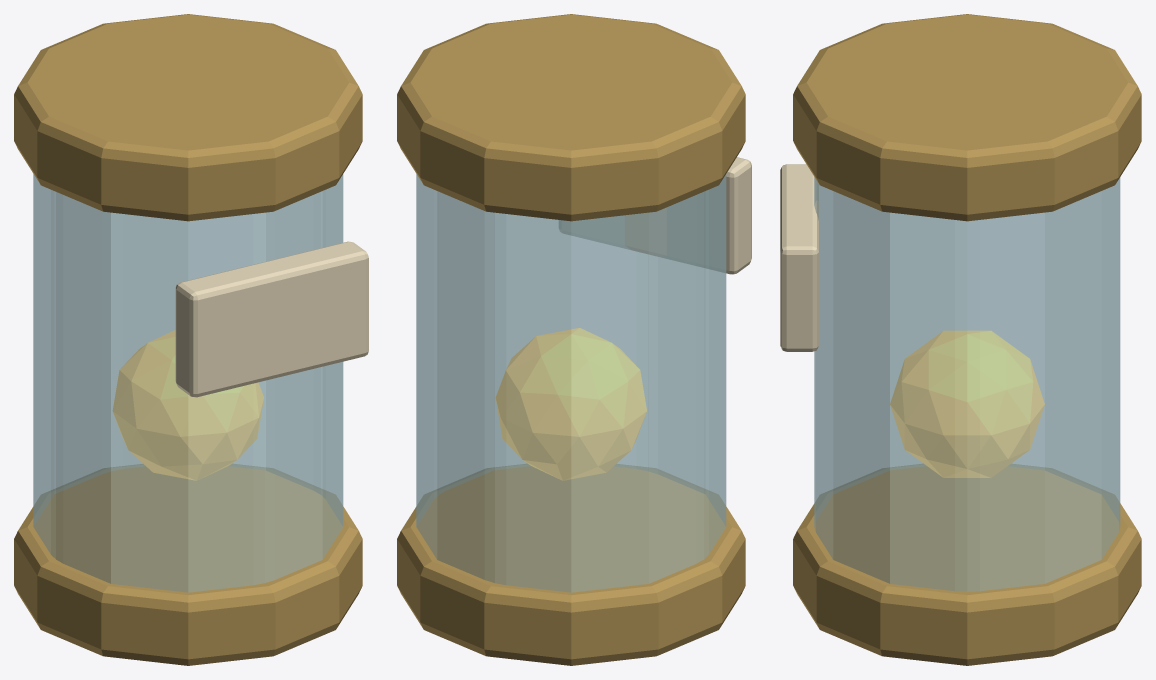
File: item_first_grain.glb
3 views of the same model, side by side, from view 1: azimuth 30°, elevation 25°; view 2: azimuth 150°, elevation 25°; view 3: azimuth 270°, elevation 25° (orthographic).
Visible parts, largest first — view 1: Archive capsule, Archive cap, Archive base, Catalogue tab, First Grain; view 2: Archive capsule, Archive cap, Archive base, First Grain, Catalogue tab; view 3: Archive capsule, Archive cap, Archive base, First Grain, Catalogue tab.
Boxes of the visible parts, x1,y1,x2,y2 form: Archive capsule: (33,174,343,592); Archive cap: (14,14,362,221); Archive base: (14,464,362,665); Catalogue tab: (175,241,368,397); First Grain: (112,330,263,480); Archive capsule: (416,174,726,592); Archive cap: (397,14,745,221); Archive base: (397,464,745,665); First Grain: (495,328,646,480); Catalogue tab: (559,157,751,274); Archive capsule: (814,177,1120,591); Archive cap: (793,14,1141,221); Archive base: (793,464,1141,665); First Grain: (890,330,1044,477); Catalogue tab: (780,164,818,351).
Bounding box in the file's own units: 0.054 × 0.088 × 0.056.
